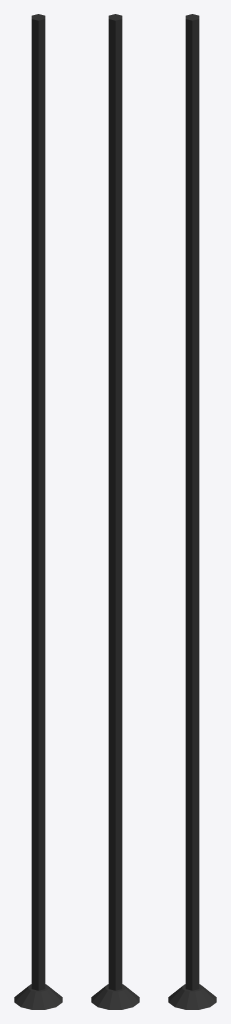
File: lamp.fbx
3 renders of one model, left to right at view 1: azimuth 30°, elevation 25°; view 2: azimuth 150°, elevation 25°; view 3: azimuth 330°, elevation 25°, orthographic.
Visible parts, largest first — view 1: cylinder_1, cylinder; view 2: cylinder_1, cylinder; view 3: cylinder_1, cylinder.
Part boxes in pixels (box(x1,y1,x2,y2)): cylinder_1: box(31, 14, 45, 990); cylinder: box(14, 984, 62, 1009); cylinder_1: box(108, 14, 122, 990); cylinder: box(91, 984, 139, 1009); cylinder_1: box(185, 14, 199, 990); cylinder: box(168, 984, 216, 1009).
Size of the model in its own units: 43.75 by 988 by 43.75.
Materials: 1 (1 with a texture image).
